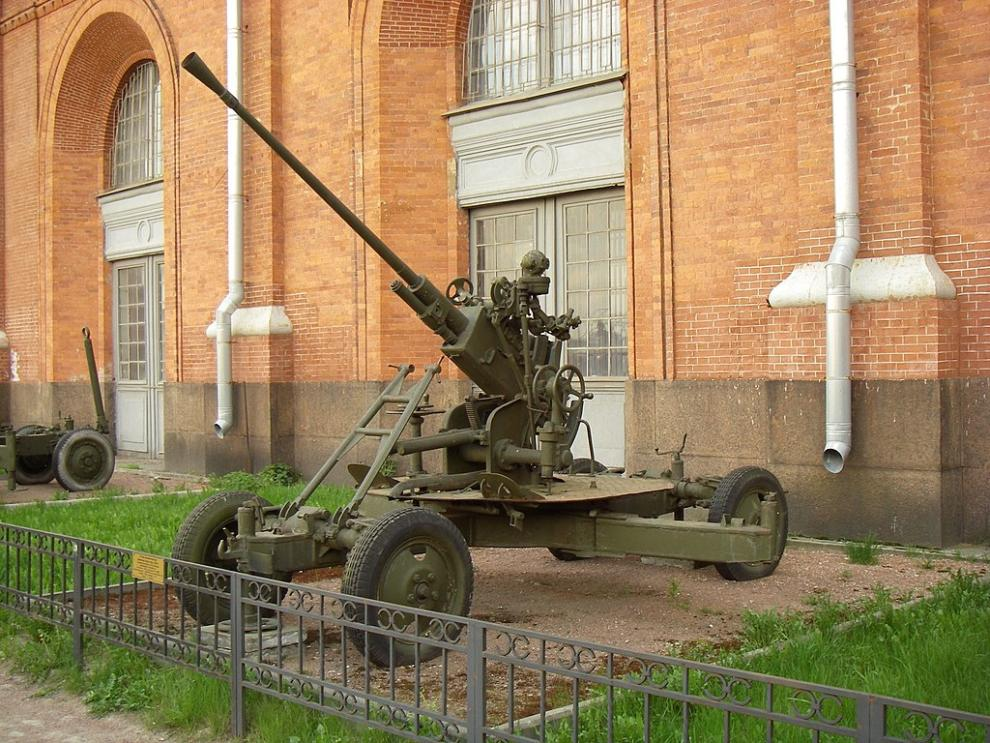MIL_SPG: (174, 54, 787, 618)
